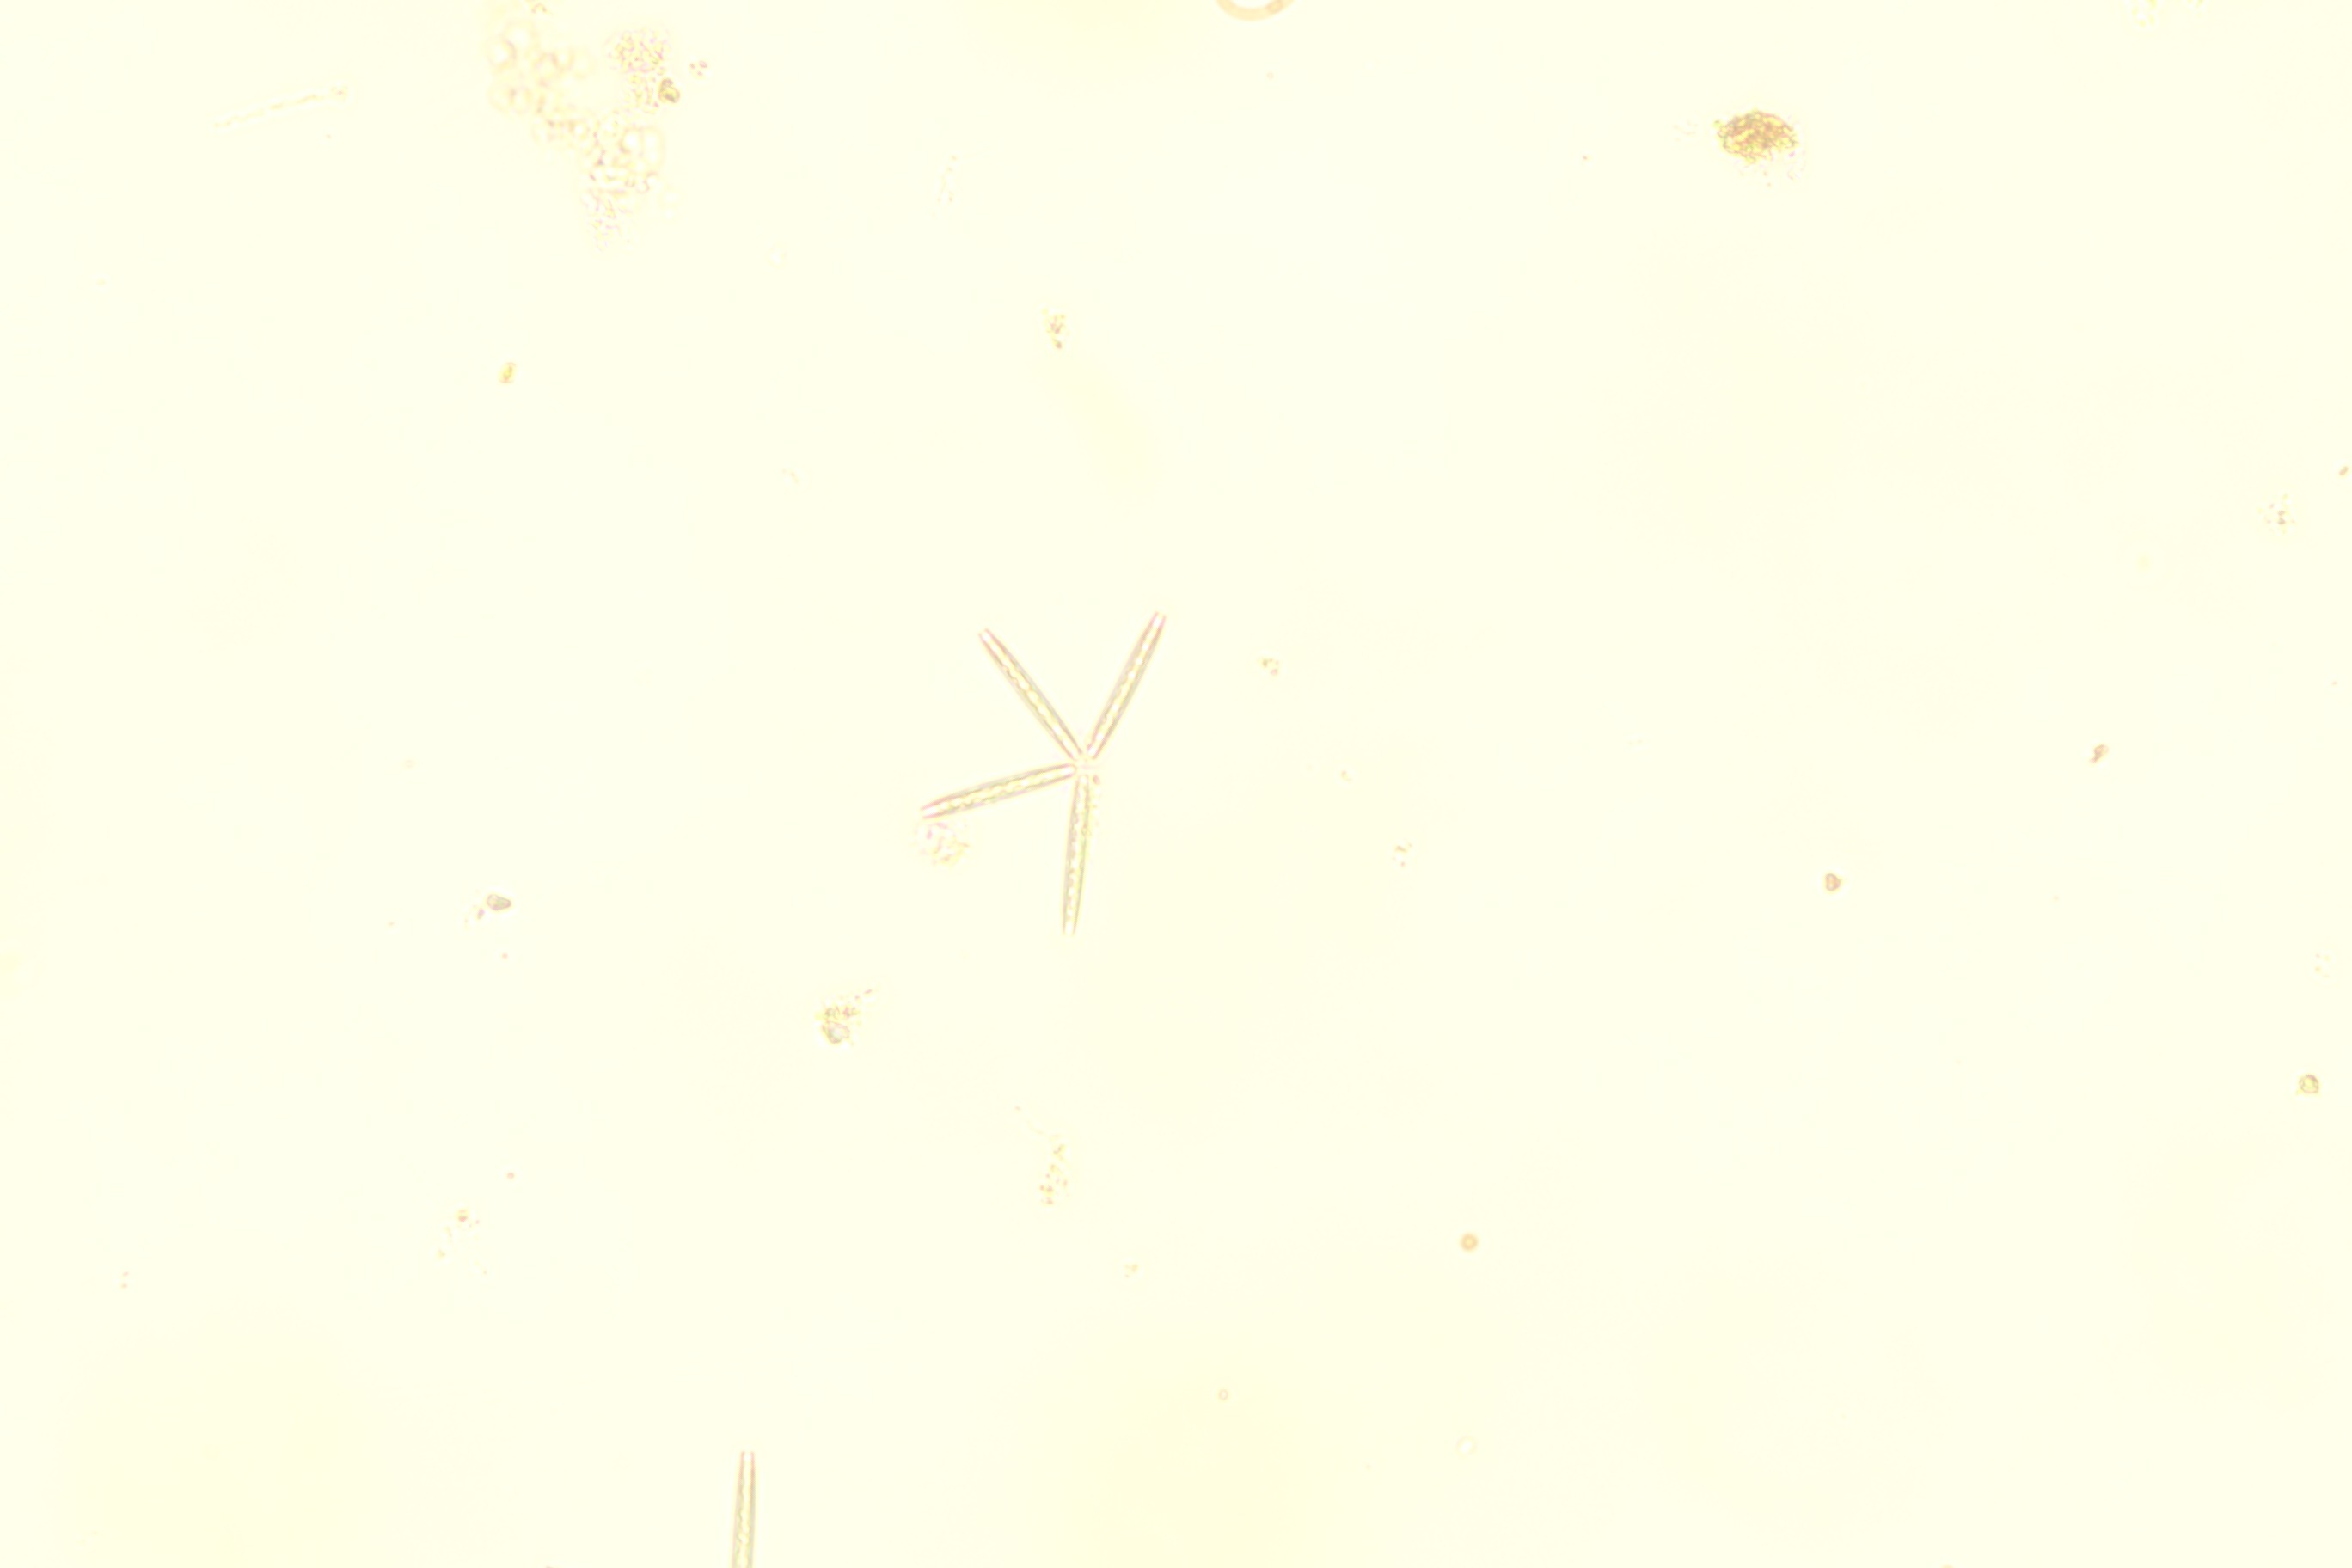thalassionema nitzschioides: (889, 593, 1249, 947)
